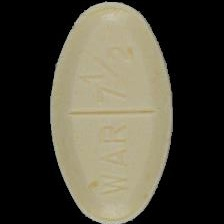68382-058: (0, 0, 224, 224)
